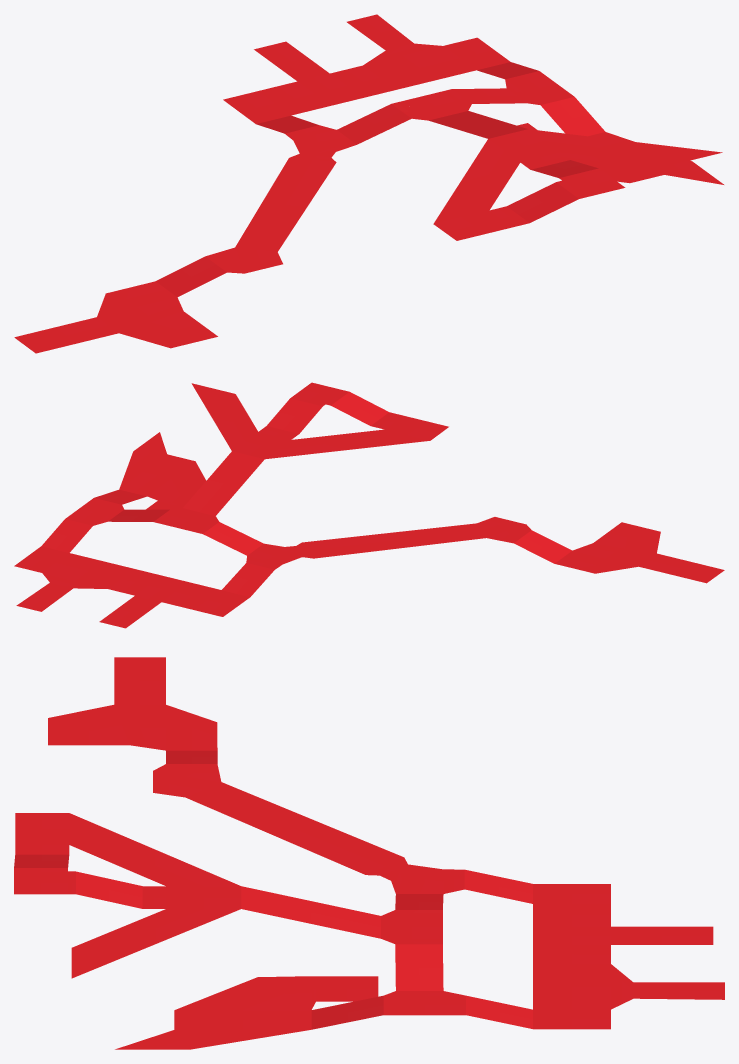
The model's file is Navi_1.FBX.
The picture shows the model from 3 angles, top to bottom: view 1: azimuth 30°, elevation 25°; view 2: azimuth 150°, elevation 25°; view 3: azimuth 270°, elevation 25°; orthographic projection. The views are drawn at different scales.
Visible parts, largest first — view 1: Plane001; view 2: Plane001; view 3: Plane001.
Part boxes in pixels (x1,y1,x2,y2): Plane001: (14,14,723,353); Plane001: (14,382,724,628); Plane001: (14,657,724,1049).
Size of the model in its own units: 7215 by 639 by 5520.
